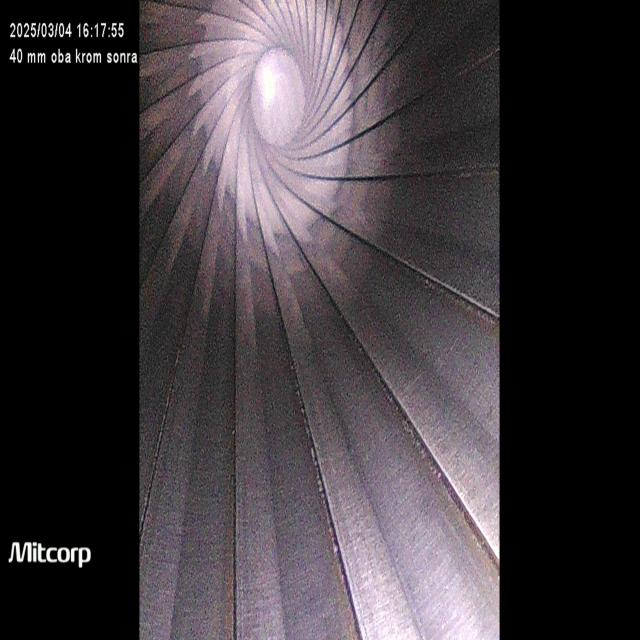hata_8.1: (284, 348, 373, 640)
